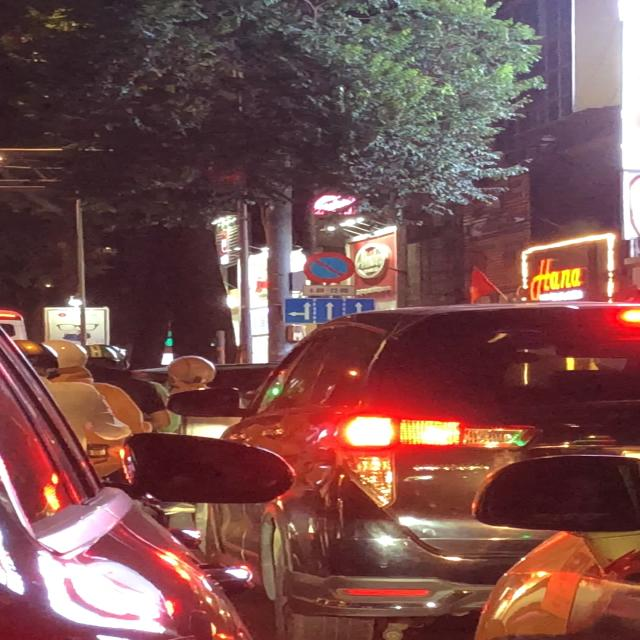Bien bao cam do xe: (299, 251, 361, 284)
